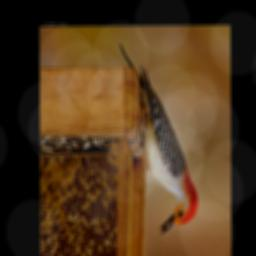Woodpecker: (118, 42, 199, 235)
